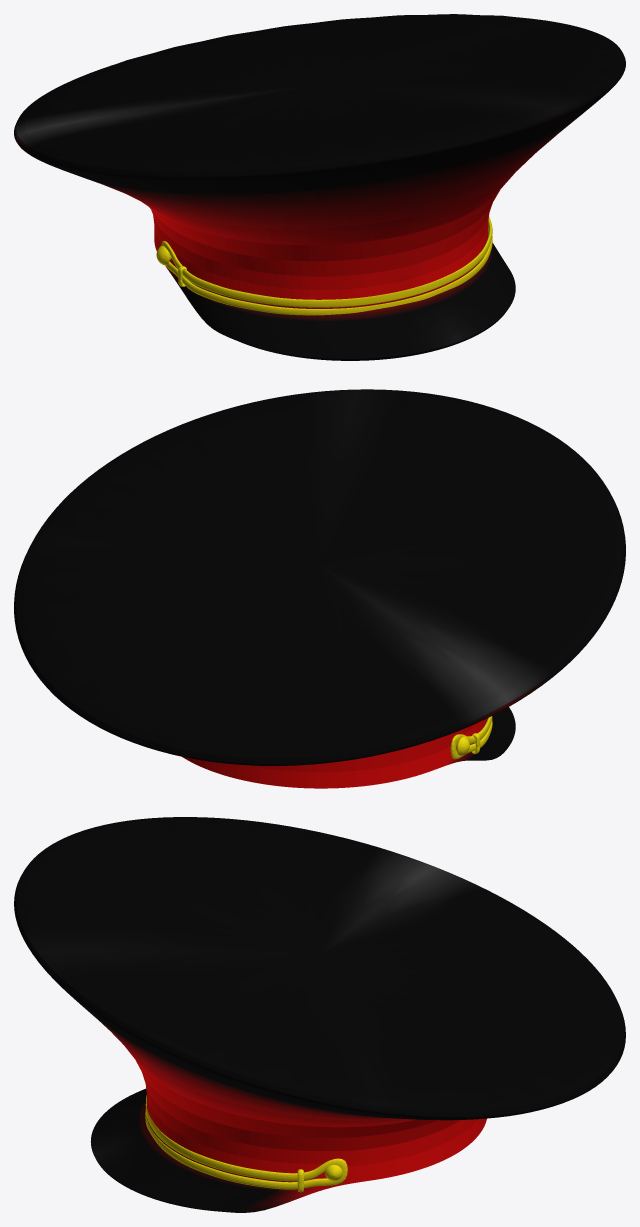
The model's file is Hat_1.0V.fbx.
The picture shows the model from 3 angles, top to bottom: view 1: azimuth 30°, elevation 25°; view 2: azimuth 150°, elevation 25°; view 3: azimuth 270°, elevation 25°; orthographic projection. The views are drawn at different scales.
Parts seen in each view (by area): view 1: Circle, Cube; view 2: Circle, Cube; view 3: Circle, Cube.
Boxes of the visible parts, <box> form: Circle: <box>14,14,625,360</box>; Cube: <box>161,216,492,315</box>; Circle: <box>14,389,625,788</box>; Cube: <box>450,716,492,759</box>; Circle: <box>14,817,625,1212</box>; Cube: <box>145,1095,347,1192</box>.
Size of the model in its own units: 367 by 159 by 357.
